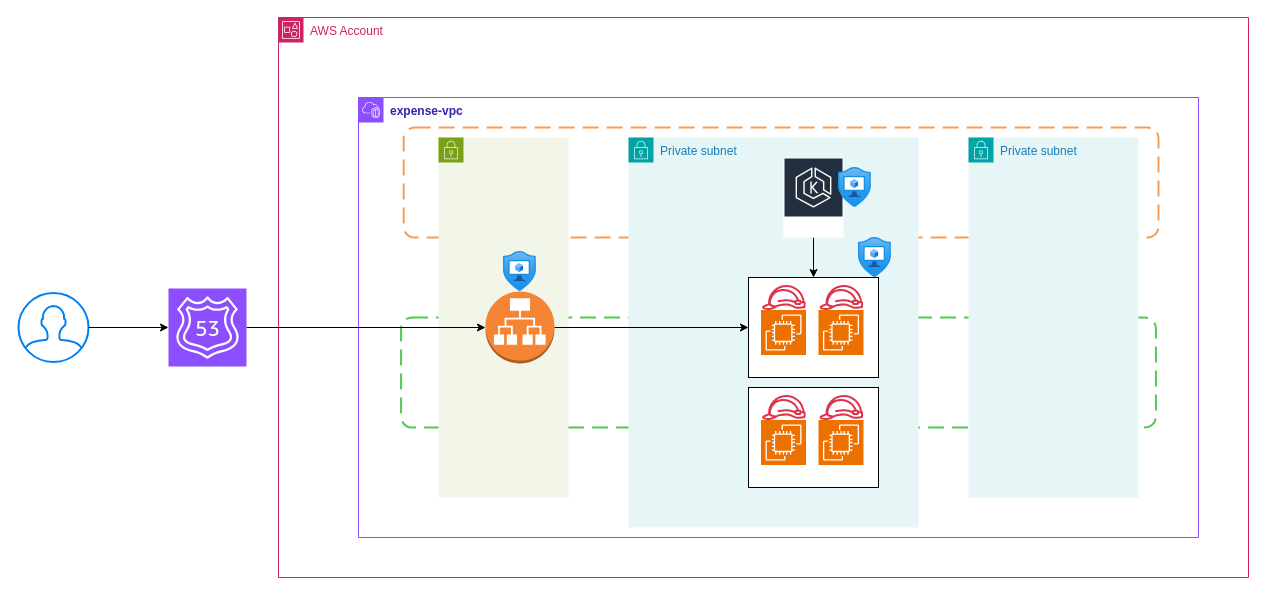
The diagram is 1266 pixels wide and 595 high, and some of its shapes have lost their labels. The box of each missing label's shape, as (x1, y1, x2, y2) in pixels:
EKS: (782, 156, 844, 238)
Public subnet: (438, 136, 568, 498)
